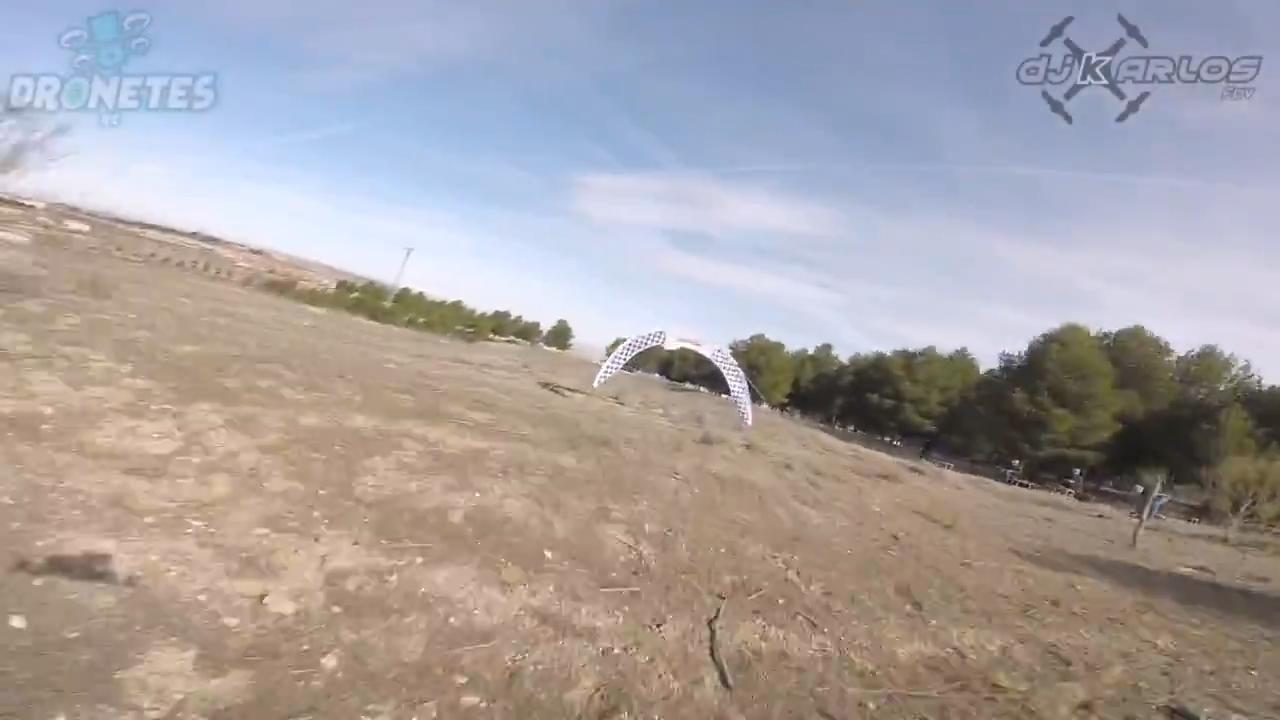gate: (591, 321, 754, 435)
